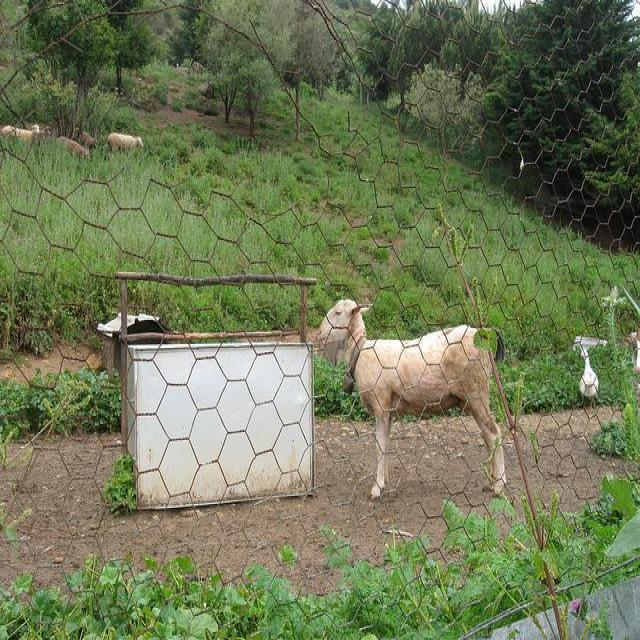Sheep: (314, 300, 504, 501)
